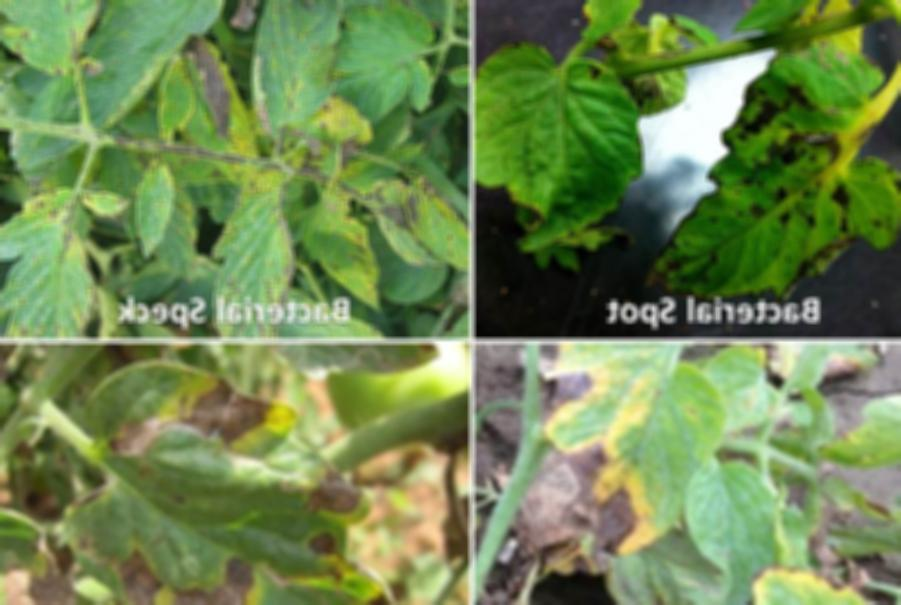Tomato Early blight leaf: (528, 354, 901, 605)
Tomato leaf bacterial spot: (652, 52, 901, 320), (476, 50, 671, 281), (25, 0, 221, 176), (0, 178, 136, 331), (205, 146, 312, 334), (241, 0, 355, 152), (116, 139, 187, 256), (151, 46, 202, 137)
